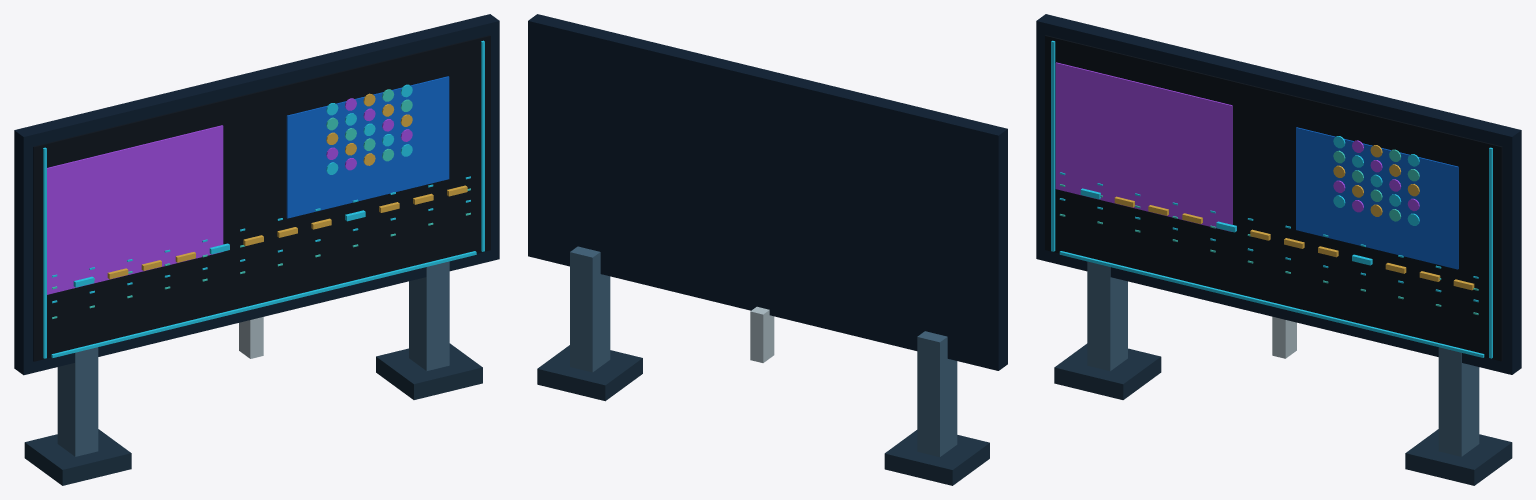
The model's file is 50_L72_HolographicAtomicDepositionSCADA.fbx.
The picture shows the model from 3 angles, left to right: view 1: azimuth 30°, elevation 25°; view 2: azimuth 150°, elevation 25°; view 3: azimuth 330°, elevation 25°; orthographic projection.
Visible parts, largest first — view 1: HolographicAtomicDepositionSCADA; view 2: HolographicAtomicDepositionSCADA; view 3: HolographicAtomicDepositionSCADA.
Part boxes in pixels (bbox=[...]): HolographicAtomicDepositionSCADA: bbox=[14, 14, 499, 485]; HolographicAtomicDepositionSCADA: bbox=[528, 14, 1007, 485]; HolographicAtomicDepositionSCADA: bbox=[1036, 14, 1521, 485].
Bounding box in the file's own units: 435 × 304 × 60.
